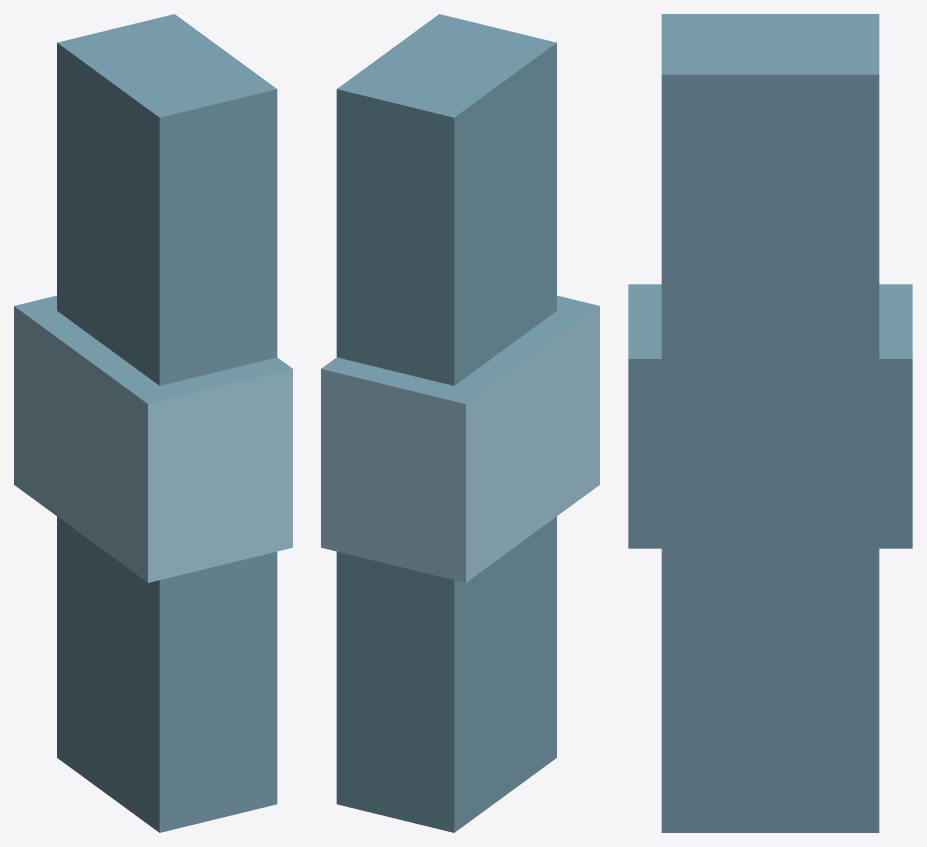
Rendered from chimney.fbx.
3 renders of one model, left to right at view 1: azimuth 30°, elevation 25°; view 2: azimuth 150°, elevation 25°; view 3: azimuth 270°, elevation 25°, orthographic. The views are drawn at different scales.
Visible parts, largest first — view 1: chimney; view 2: chimney; view 3: chimney.
Part boxes in pixels (<box>): chimney: <box>14,14,292,832</box>; chimney: <box>321,14,599,832</box>; chimney: <box>628,14,912,832</box>.
Bounding box in the file's own units: 2.12 × 10 × 3.4.
